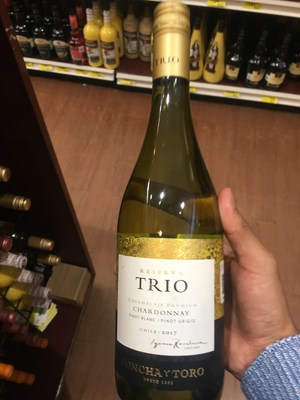trio chardonnay: (102, 9, 239, 394)
